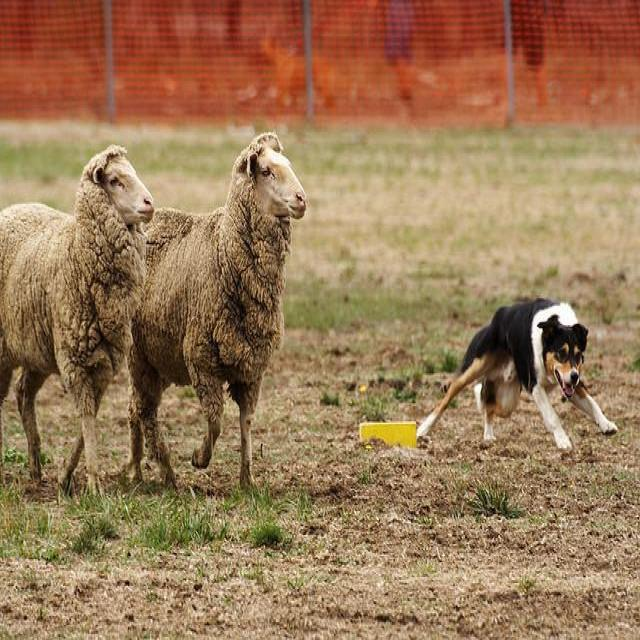Sheep: (127, 131, 308, 505), (1, 151, 156, 496)
